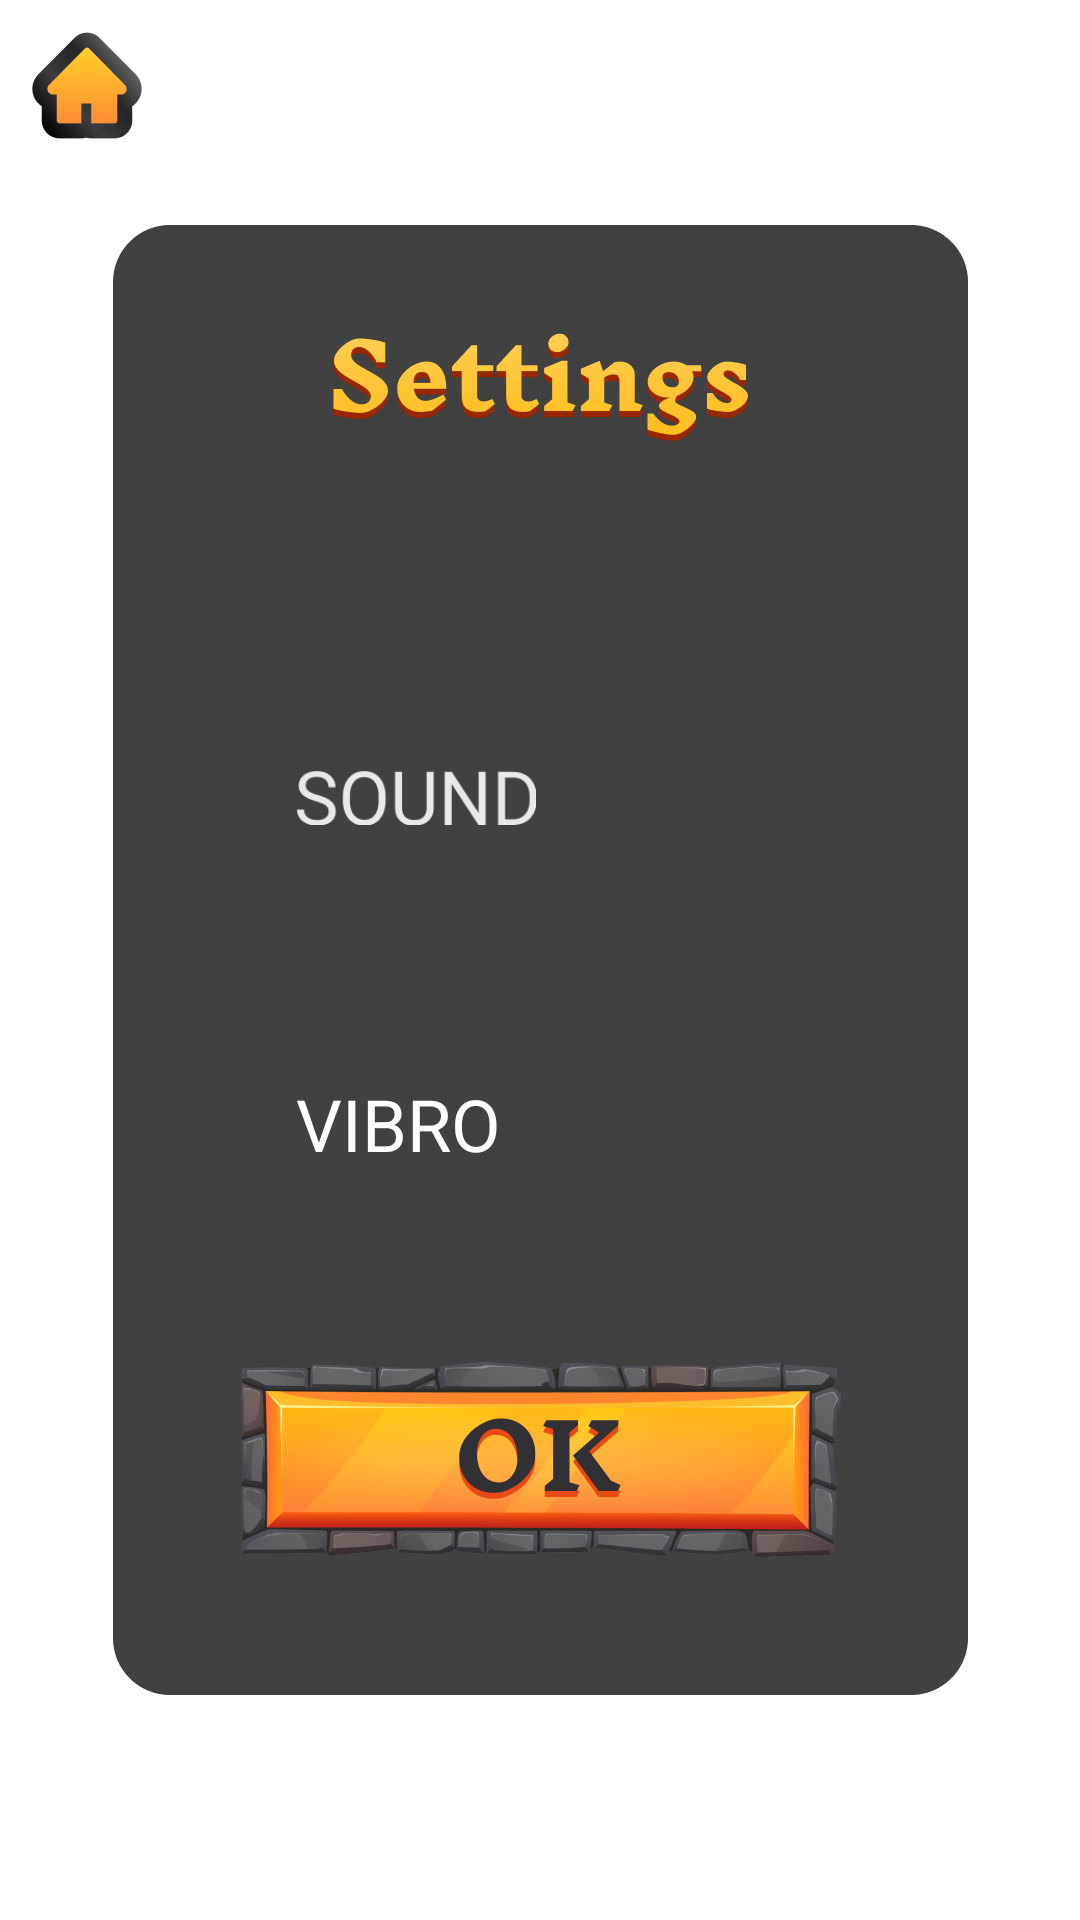

Where to tap for icons on this 1080 × 1920 app screen, as (x,y):
home sel: (87,85)
